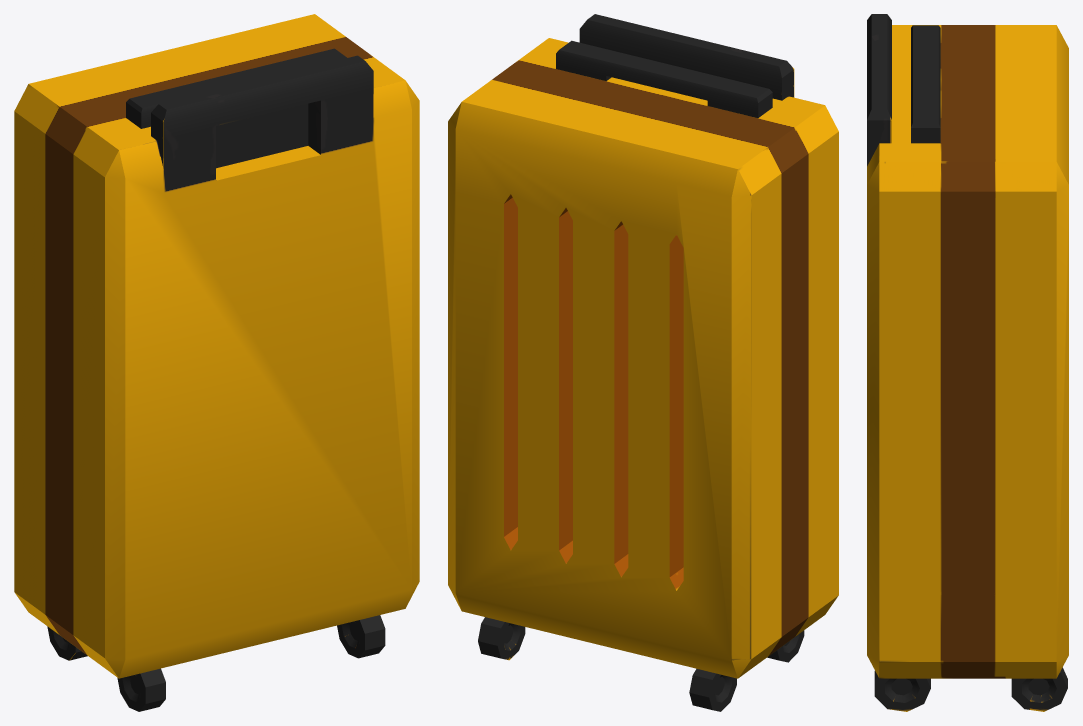
Rendered from LuggageModel.fbx.
The picture shows the model from 3 angles, left to right: view 1: azimuth 30°, elevation 25°; view 2: azimuth 150°, elevation 25°; view 3: azimuth 270°, elevation 25°; orthographic projection. The views are drawn at different scales.
Parts seen in each view (by area): view 1: Cube.003; view 2: Cube.003; view 3: Cube.003.
Part boxes in pixels (left/top/right/bottom): Cube.003: left=14, top=14, right=419, bottom=711; Cube.003: left=448, top=14, right=838, bottom=711; Cube.003: left=867, top=14, right=1068, bottom=711.
Bounding box in the file's own units: 217 × 400 × 124.
Materials: 1 (1 with a texture image).
